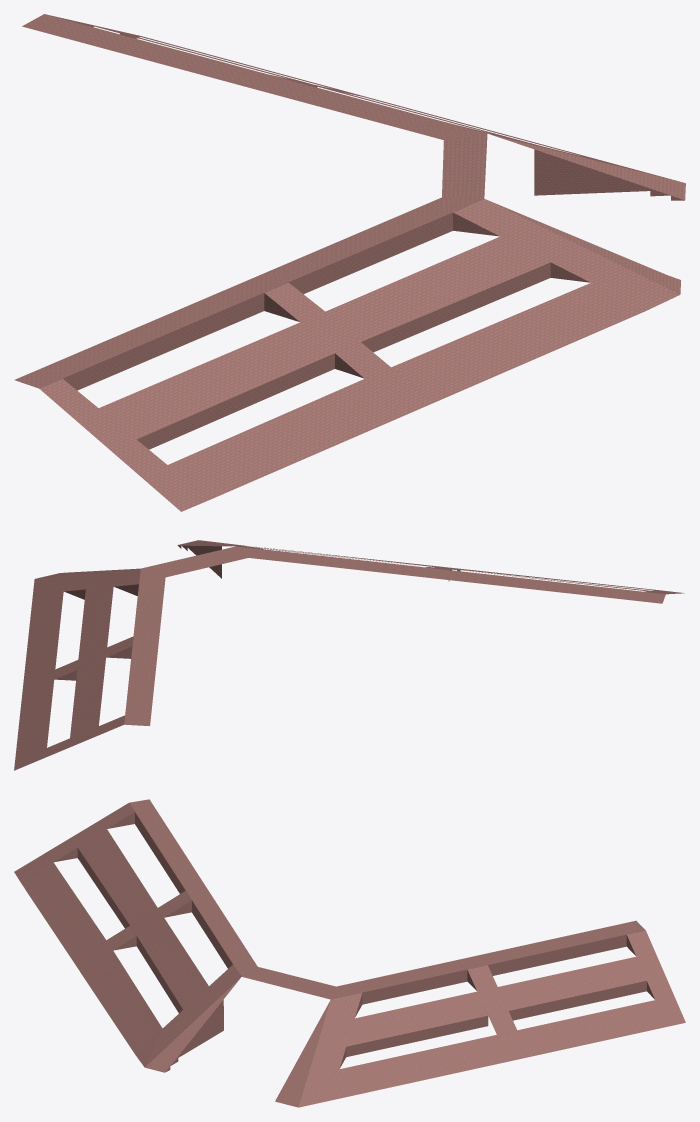
Rendered from kd_stage_1364a3_11_17.glb.
The picture shows the model from 3 angles, top to bottom: view 1: azimuth 30°, elevation 25°; view 2: azimuth 150°, elevation 25°; view 3: azimuth 270°, elevation 25°; orthographic projection. The views are drawn at different scales.
Parts seen in each view (by area): view 1: kd_stage_1364a3_11_17; view 2: kd_stage_1364a3_11_17; view 3: kd_stage_1364a3_11_17.
Boxes of the visible parts, bbox=[...] form: kd_stage_1364a3_11_17: bbox=[14, 14, 685, 511]; kd_stage_1364a3_11_17: bbox=[14, 540, 684, 770]; kd_stage_1364a3_11_17: bbox=[14, 799, 685, 1107].
Bounding box in the file's own units: 44.5 × 4.07 × 49.01.
1 material, 1 textured.
